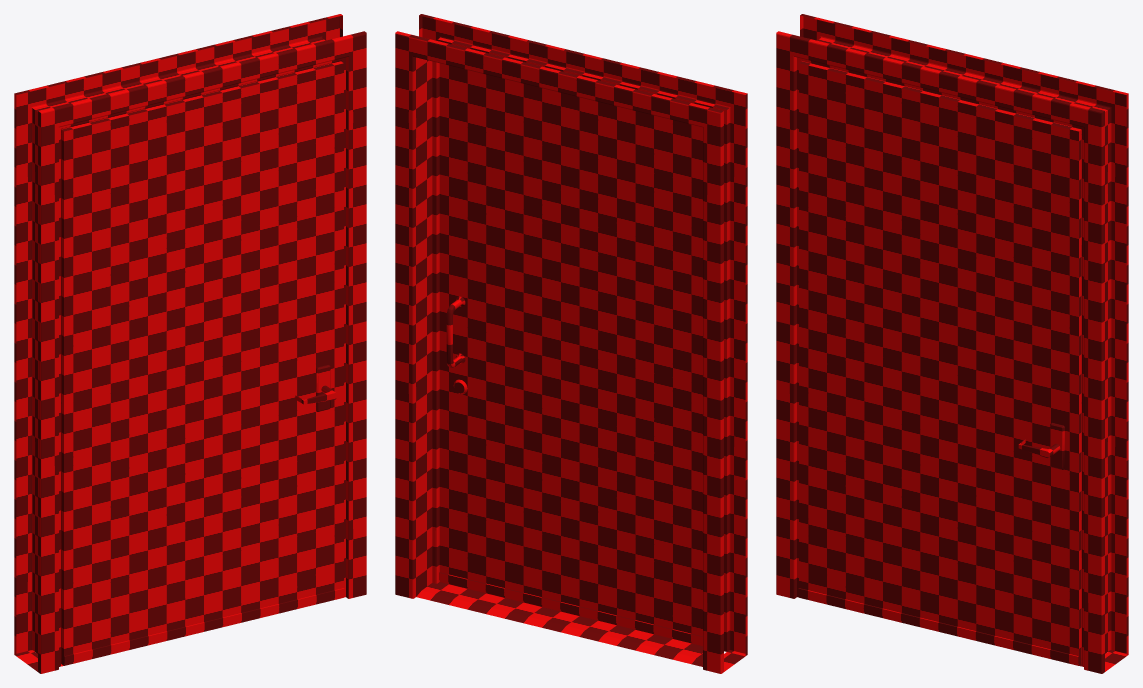
File: missing_door.fbx
3 renders of one model, left to right at view 1: azimuth 30°, elevation 25°; view 2: azimuth 150°, elevation 25°; view 3: azimuth 330°, elevation 25°, orthographic.
Parts seen in each view (by area): view 1: 54157_mesh; view 2: 54157_mesh; view 3: 54157_mesh.
Part boxes in pixels (<box>): 54157_mesh: <box>14,14,366,673</box>; 54157_mesh: <box>395,14,747,673</box>; 54157_mesh: <box>776,14,1128,673</box>.
Size of the model in its own units: 70 by 115 by 14.25.
Materials: 1 (1 with a texture image).
